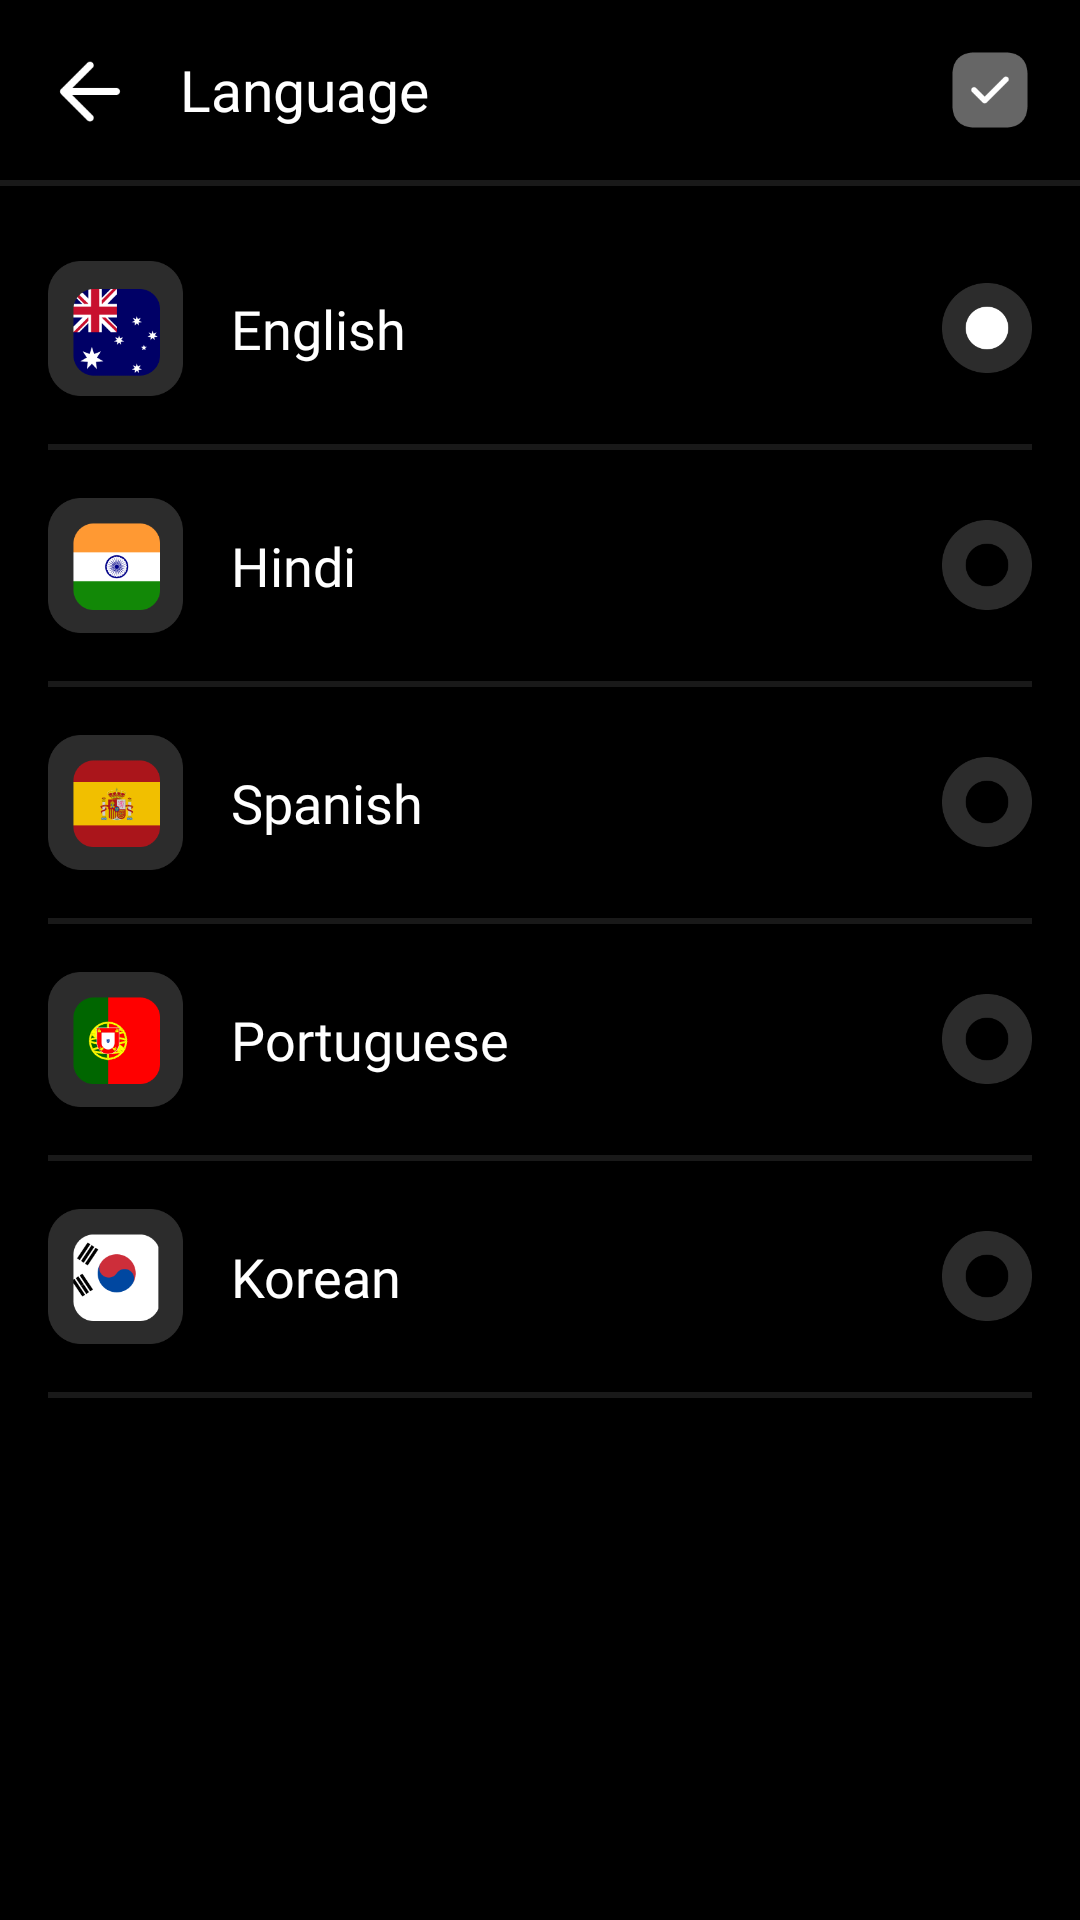

Screen size 1080px x 1920px. Icon name, then its box in pixels as [x1=x1, y1=y1, x2=x2, y2=y2]:
back: [x1=60, y1=61, x2=120, y2=122]
